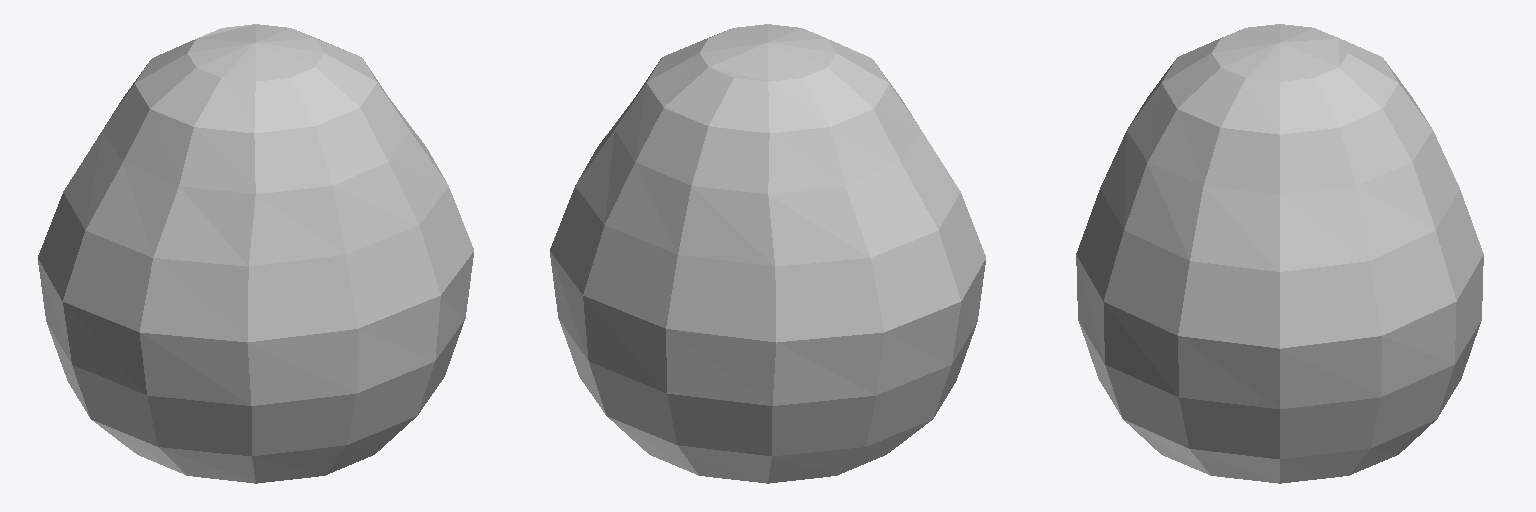
File: Neutrophil Shell.obj
3 renders of one model, left to right at view 1: azimuth 30°, elevation 25°; view 2: azimuth 150°, elevation 25°; view 3: azimuth 270°, elevation 25°, orthographic.
Visible parts, largest first — view 1: Neutrophil_Sphere; view 2: Neutrophil_Sphere; view 3: Neutrophil_Sphere.
Boxes of the visible parts, <box> form: Neutrophil_Sphere: <box>38,24,473,483</box>; Neutrophil_Sphere: <box>550,24,985,483</box>; Neutrophil_Sphere: <box>1076,24,1483,483</box>.
Size of the model in its own units: 1.51 by 1.59 by 1.38.